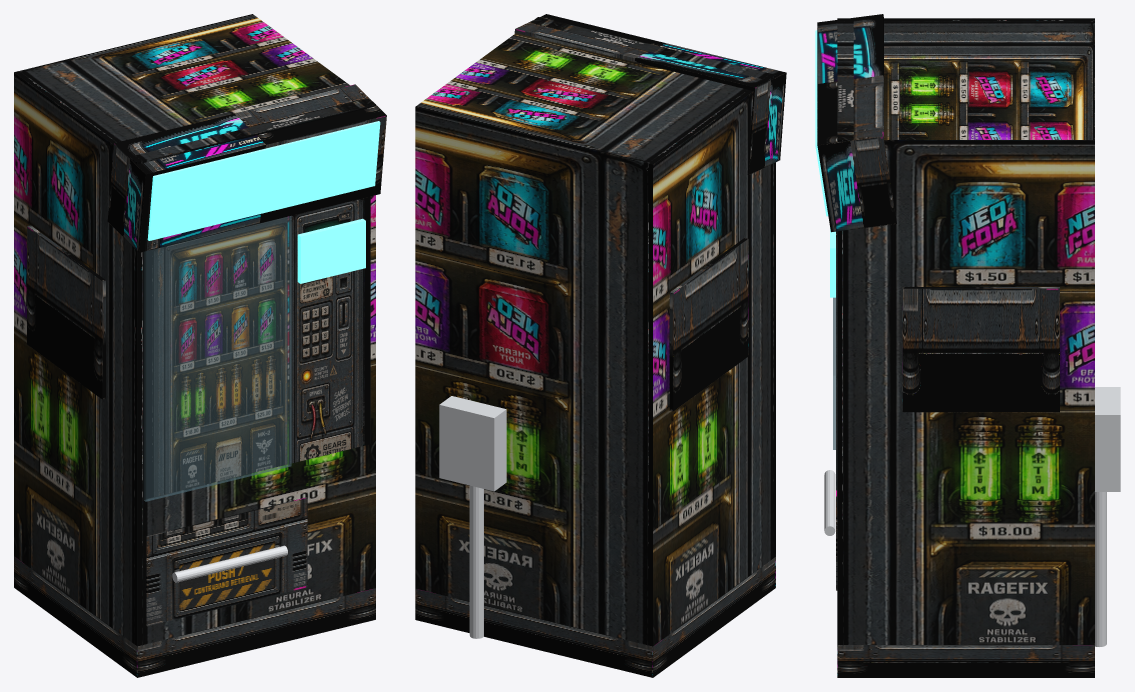
File: prop_vending_machine.glb
3 views of the same model, side by side, from view 1: azimuth 30°, elevation 25°; view 2: azimuth 150°, elevation 25°; view 3: azimuth 270°, elevation 25° (orthographic). The views are drawn at different scales.
Parts seen in each view (by area): view 1: VendingMachine; view 2: VendingMachine; view 3: VendingMachine.
Part boxes in pixels (x1,y1,x2,y2): VendingMachine: [14, 14, 386, 677]; VendingMachine: [415, 14, 786, 677]; VendingMachine: [815, 14, 1120, 677].
Bounding box in the file's own units: 0.98 × 1.97 × 1.01.
Materials: 4 (1 with a texture image).
